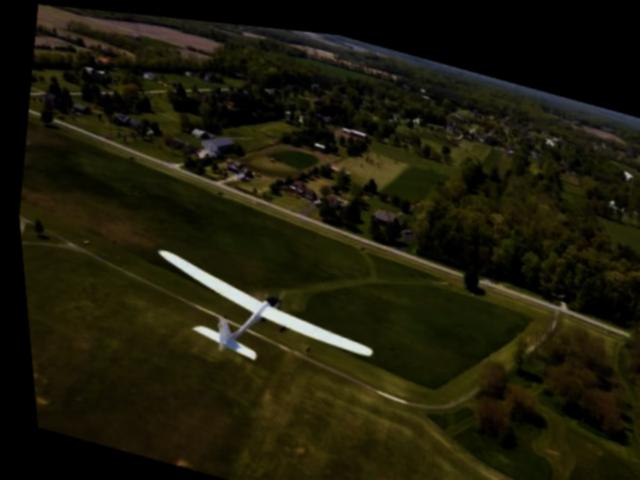uav: (132, 232, 389, 403)
